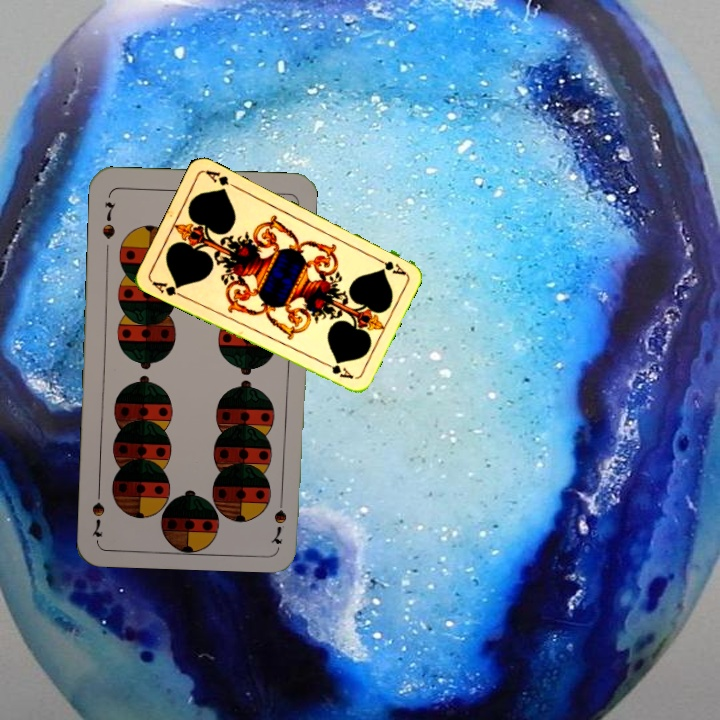GA: (370, 252, 408, 278), (147, 277, 187, 300)
S7: (270, 487, 290, 547), (98, 197, 118, 241)
